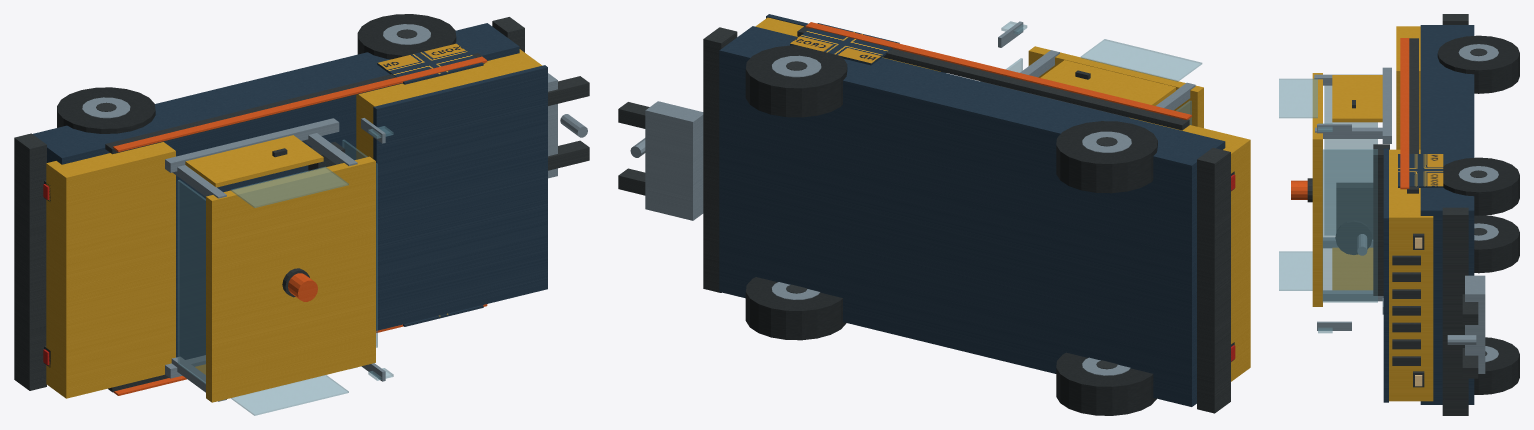
Rendered from PZ_Pushback_Tug.glb.
The picture shows the model from 3 angles, left to right: view 1: azimuth 30°, elevation 25°; view 2: azimuth 150°, elevation 25°; view 3: azimuth 270°, elevation 25°; orthographic projection. The views are drawn at different scales.
Visible parts, largest first — view 1: RENDER_Pushback_Tug_FrontBonnetTop, RENDER_Pushback_Tug_CabRoof, RENDER_Pushback_Tug_BackEquipmentCover, RENDER_Pushback_Tug_LowerUnibody, RENDER_Pushback_Tug_RearCrashBeam, RENDER_Pushback_Tug_CabRearWindshield, RENDER_Pushback_Tug_DoorSkin_1, RENDER_Pushback_Tug_FrontPowerHood, RENDER_Pushback_Tug_Tire_Rear_L, RENDER_Pushback_Tug_SideWarningStripe_1, RENDER_Pushback_Tug_Tire_Front_L, RENDER_Pushback_Tug_DoorGlass_1 (+16 smaller); view 2: RENDER_Pushback_Tug_LowerUnibody, RENDER_Pushback_Tug_RearCrashBeam, RENDER_Pushback_Tug_PushbackCouplerCrossbar, RENDER_Pushback_Tug_Tire_Rear_L, RENDER_Pushback_Tug_Tire_Front_L, RENDER_Pushback_Tug_BackEquipmentCover, RENDER_Pushback_Tug_FrontCrashBeam, RENDER_Pushback_Tug_Tire_Rear_R, RENDER_Pushback_Tug_Tire_Front_R, RENDER_Pushback_Tug_WheelSplashGuard_1, RENDER_Pushback_Tug_SideWarningStripe_1, RENDER_Pushback_Tug_DoorSkin_1 (+7 smaller); view 3: RENDER_Pushback_Tug_LowerUnibody, RENDER_Pushback_Tug_CabFrontWindshield, RENDER_Pushback_Tug_FrontPowerHood, RENDER_Pushback_Tug_FrontCrashBeam, RENDER_Pushback_Tug_CabRearWindshield, RENDER_Pushback_Tug_Tire_Rear_L, RENDER_Pushback_Tug_Tire_Front_L, RENDER_Pushback_Tug_CabRoof, RENDER_Pushback_Tug_DoorSkin_1, RENDER_Pushback_Tug_Tire_Rear_R, RENDER_Pushback_Tug_Tire_Front_R, RENDER_Pushback_Tug_Dash (+31 smaller).
Boxes of the visible parts, x1,y1,x2,y2 form: RENDER_Pushback_Tug_FrontBonnetTop: [373, 65, 547, 330]; RENDER_Pushback_Tug_CabRoof: [206, 156, 375, 402]; RENDER_Pushback_Tug_BackEquipmentCover: [46, 142, 175, 398]; RENDER_Pushback_Tug_LowerUnibody: [33, 23, 519, 359]; RENDER_Pushback_Tug_RearCrashBeam: [14, 133, 46, 390]; RENDER_Pushback_Tug_CabRearWindshield: [177, 180, 205, 384]; RENDER_Pushback_Tug_DoorSkin_1: [185, 135, 323, 187]; RENDER_Pushback_Tug_FrontPowerHood: [356, 49, 541, 159]; RENDER_Pushback_Tug_Tire_Rear_L: [57, 87, 155, 133]; RENDER_Pushback_Tug_SideWarningStripe_1: [113, 56, 487, 152]; RENDER_Pushback_Tug_Tire_Front_L: [357, 14, 456, 59]; RENDER_Pushback_Tug_DoorGlass_1: [231, 166, 348, 207]; RENDER_Pushback_Tug_LowerUnibody: [719, 26, 1225, 406]; RENDER_Pushback_Tug_RearCrashBeam: [1197, 147, 1230, 413]; RENDER_Pushback_Tug_PushbackCouplerCrossbar: [645, 101, 703, 220]; RENDER_Pushback_Tug_Tire_Rear_L: [1056, 121, 1157, 193]; RENDER_Pushback_Tug_Tire_Front_L: [745, 45, 847, 117]; RENDER_Pushback_Tug_BackEquipmentCover: [1129, 117, 1250, 381]; RENDER_Pushback_Tug_FrontCrashBeam: [703, 27, 737, 292]; RENDER_Pushback_Tug_Tire_Rear_R: [1056, 352, 1156, 415]; RENDER_Pushback_Tug_Tire_Front_R: [745, 277, 846, 340]; RENDER_Pushback_Tug_WheelSplashGuard_1: [797, 26, 1189, 130]; RENDER_Pushback_Tug_SideWarningStripe_1: [805, 22, 1191, 120]; RENDER_Pushback_Tug_DoorSkin_1: [1040, 60, 1175, 105]; RENDER_Pushback_Tug_LowerUnibody: [1420, 25, 1474, 404]; RENDER_Pushback_Tug_CabFrontWindshield: [1322, 149, 1377, 302]; RENDER_Pushback_Tug_FrontPowerHood: [1389, 149, 1433, 401]; RENDER_Pushback_Tug_FrontCrashBeam: [1442, 207, 1468, 415]; RENDER_Pushback_Tug_CabRearWindshield: [1324, 85, 1377, 235]; RENDER_Pushback_Tug_Tire_Rear_L: [1437, 35, 1519, 93]; RENDER_Pushback_Tug_Tire_Front_L: [1443, 157, 1519, 215]; RENDER_Pushback_Tug_CabRoof: [1312, 73, 1322, 306]; RENDER_Pushback_Tug_DoorSkin_1: [1332, 75, 1382, 122]; RENDER_Pushback_Tug_Tire_Rear_R: [1474, 215, 1519, 273]; RENDER_Pushback_Tug_Tire_Front_R: [1474, 337, 1519, 394]; RENDER_Pushback_Tug_Dash: [1373, 144, 1389, 295].
Size of the model in its own units: 5.93 by 2.45 by 2.6.
Materials: 10 (10 with a texture image).
